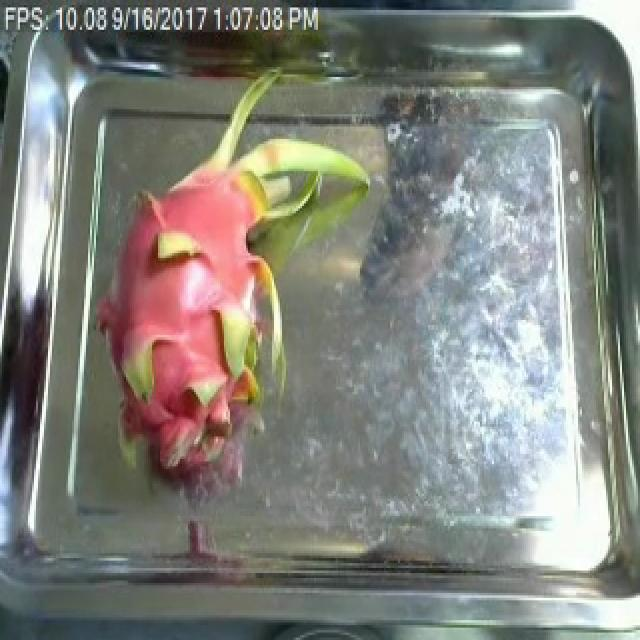fruit: (66, 74, 368, 506)
